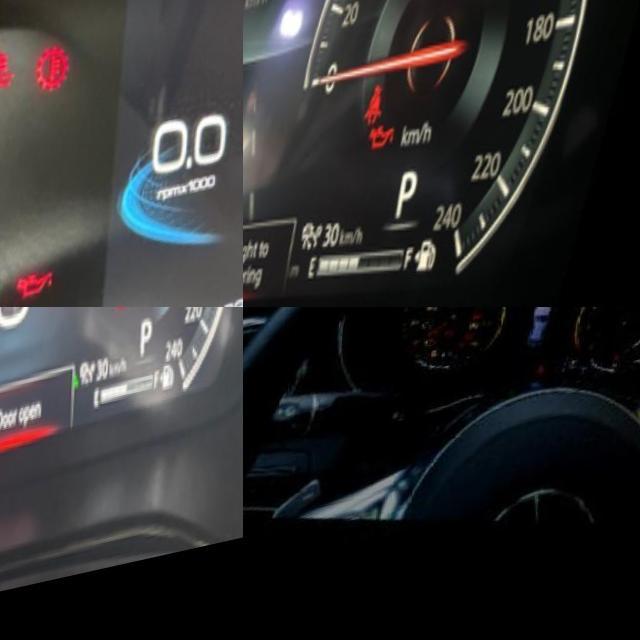Engine cooling system: (613, 371, 622, 383)
High Engine Coolant Temperature: (0, 45, 22, 102)
Low fuel level: (431, 360, 439, 373)
